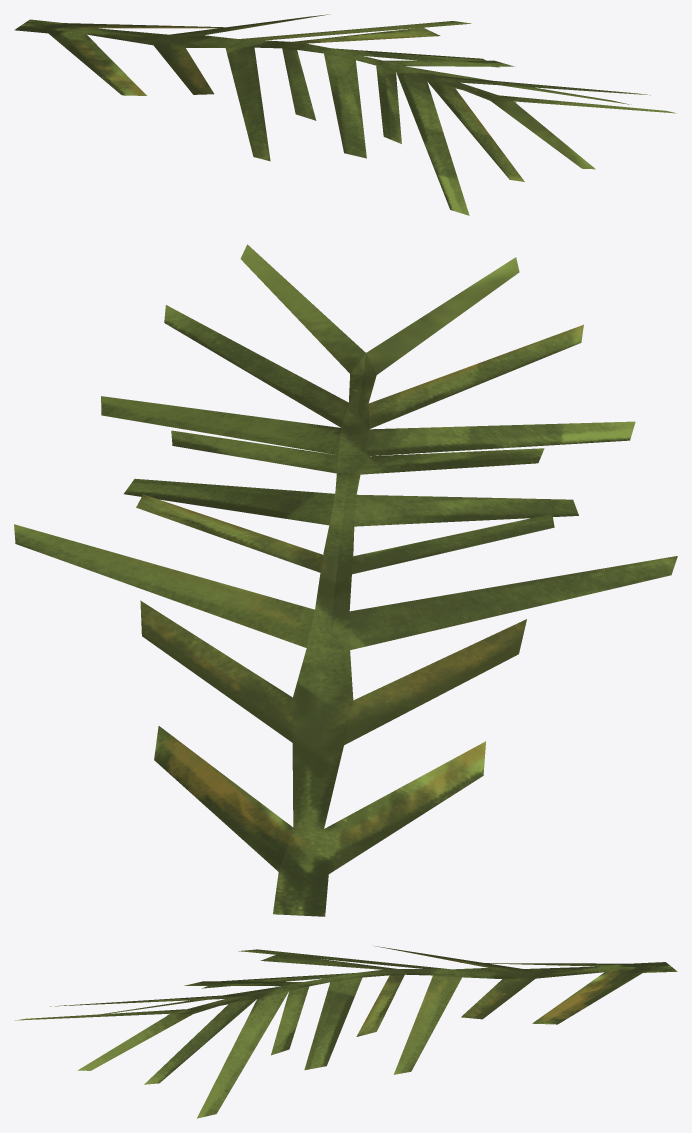
Rendered from 05_leaf_sprig_01.obj.
The picture shows the model from 3 angles, top to bottom: view 1: azimuth 30°, elevation 25°; view 2: azimuth 150°, elevation 25°; view 3: azimuth 270°, elevation 25°; orthographic projection. The views are drawn at different scales.
Parts seen in each view (by area): view 1: 05_leaf_sprig_01; view 2: 05_leaf_sprig_01; view 3: 05_leaf_sprig_01.
Part boxes in pixels (left/top/right/bottom): 05_leaf_sprig_01: left=14, top=14, right=675, bottom=215; 05_leaf_sprig_01: left=14, top=244, right=677, bottom=916; 05_leaf_sprig_01: left=15, top=945, right=677, bottom=1118.
Size of the model in its own units: 0.4136 by 0.067 by 0.676.
1 material, 1 textured.
